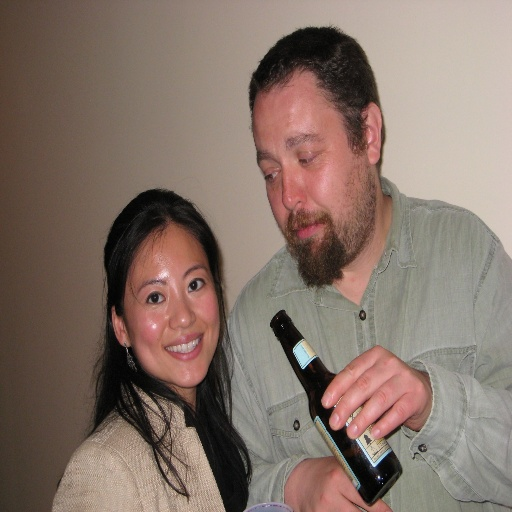hand: (320, 351, 427, 437), (296, 452, 394, 511)
